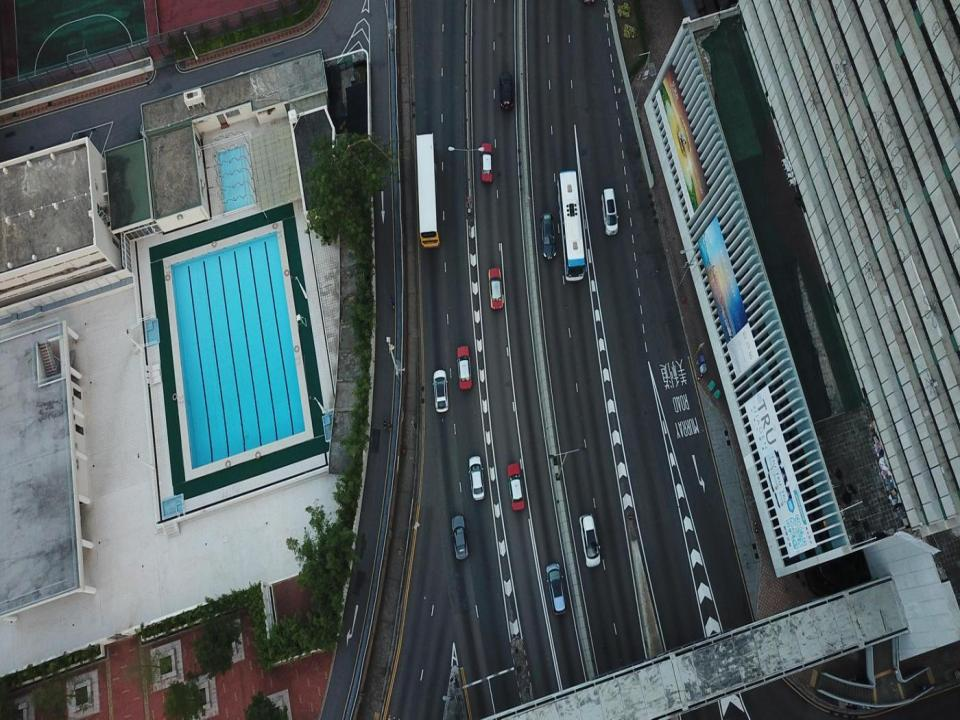bus: (556, 169, 586, 281), (415, 132, 440, 248)
car: (579, 512, 601, 568), (547, 564, 567, 615), (506, 462, 524, 511), (468, 456, 485, 501), (540, 213, 556, 260), (451, 516, 468, 560), (456, 345, 472, 390), (432, 369, 448, 412), (488, 267, 504, 310), (499, 71, 514, 110), (480, 144, 492, 184)
van: (601, 187, 618, 235)
